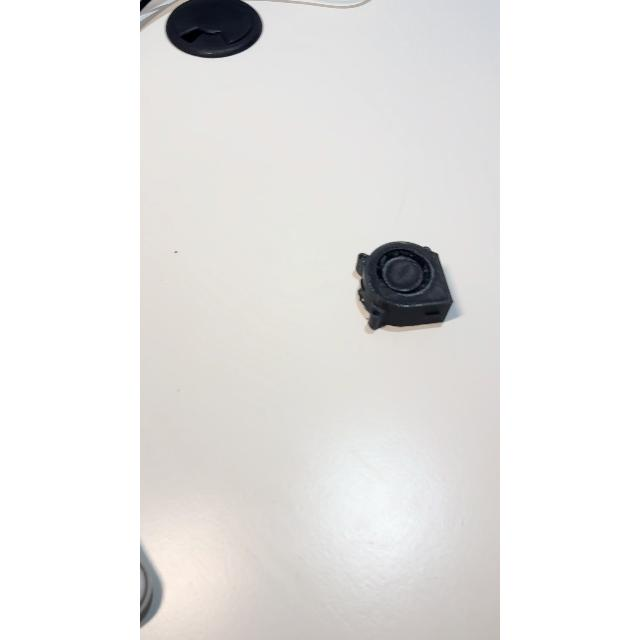Pieza_3: (346, 233, 462, 339)
